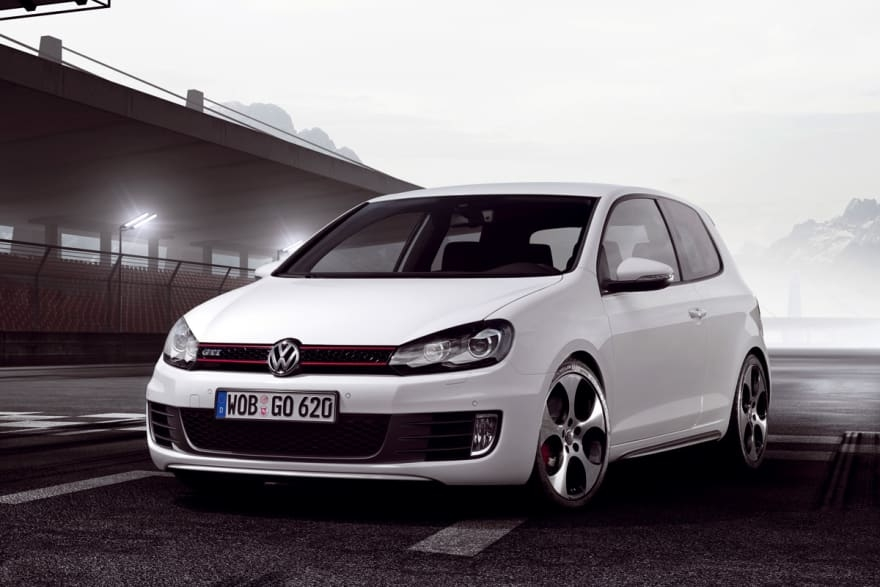Plate: (213, 386, 335, 423)
